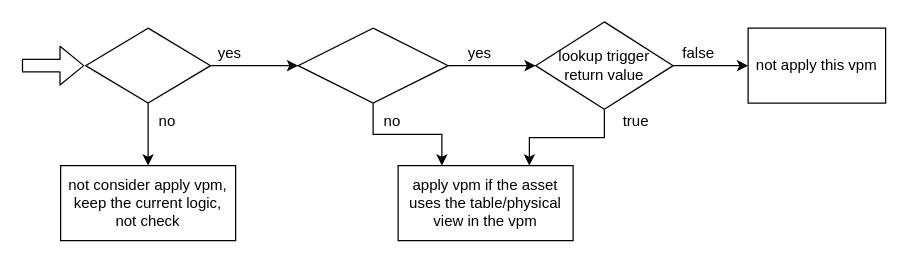
The diagram is 908 pixels wide and 263 high, and some of its shapes have lost their labels. Each missing label, with the box of its shape:
has lookup trigger: (297, 27, 448, 103)
has security: (84, 27, 211, 103)
